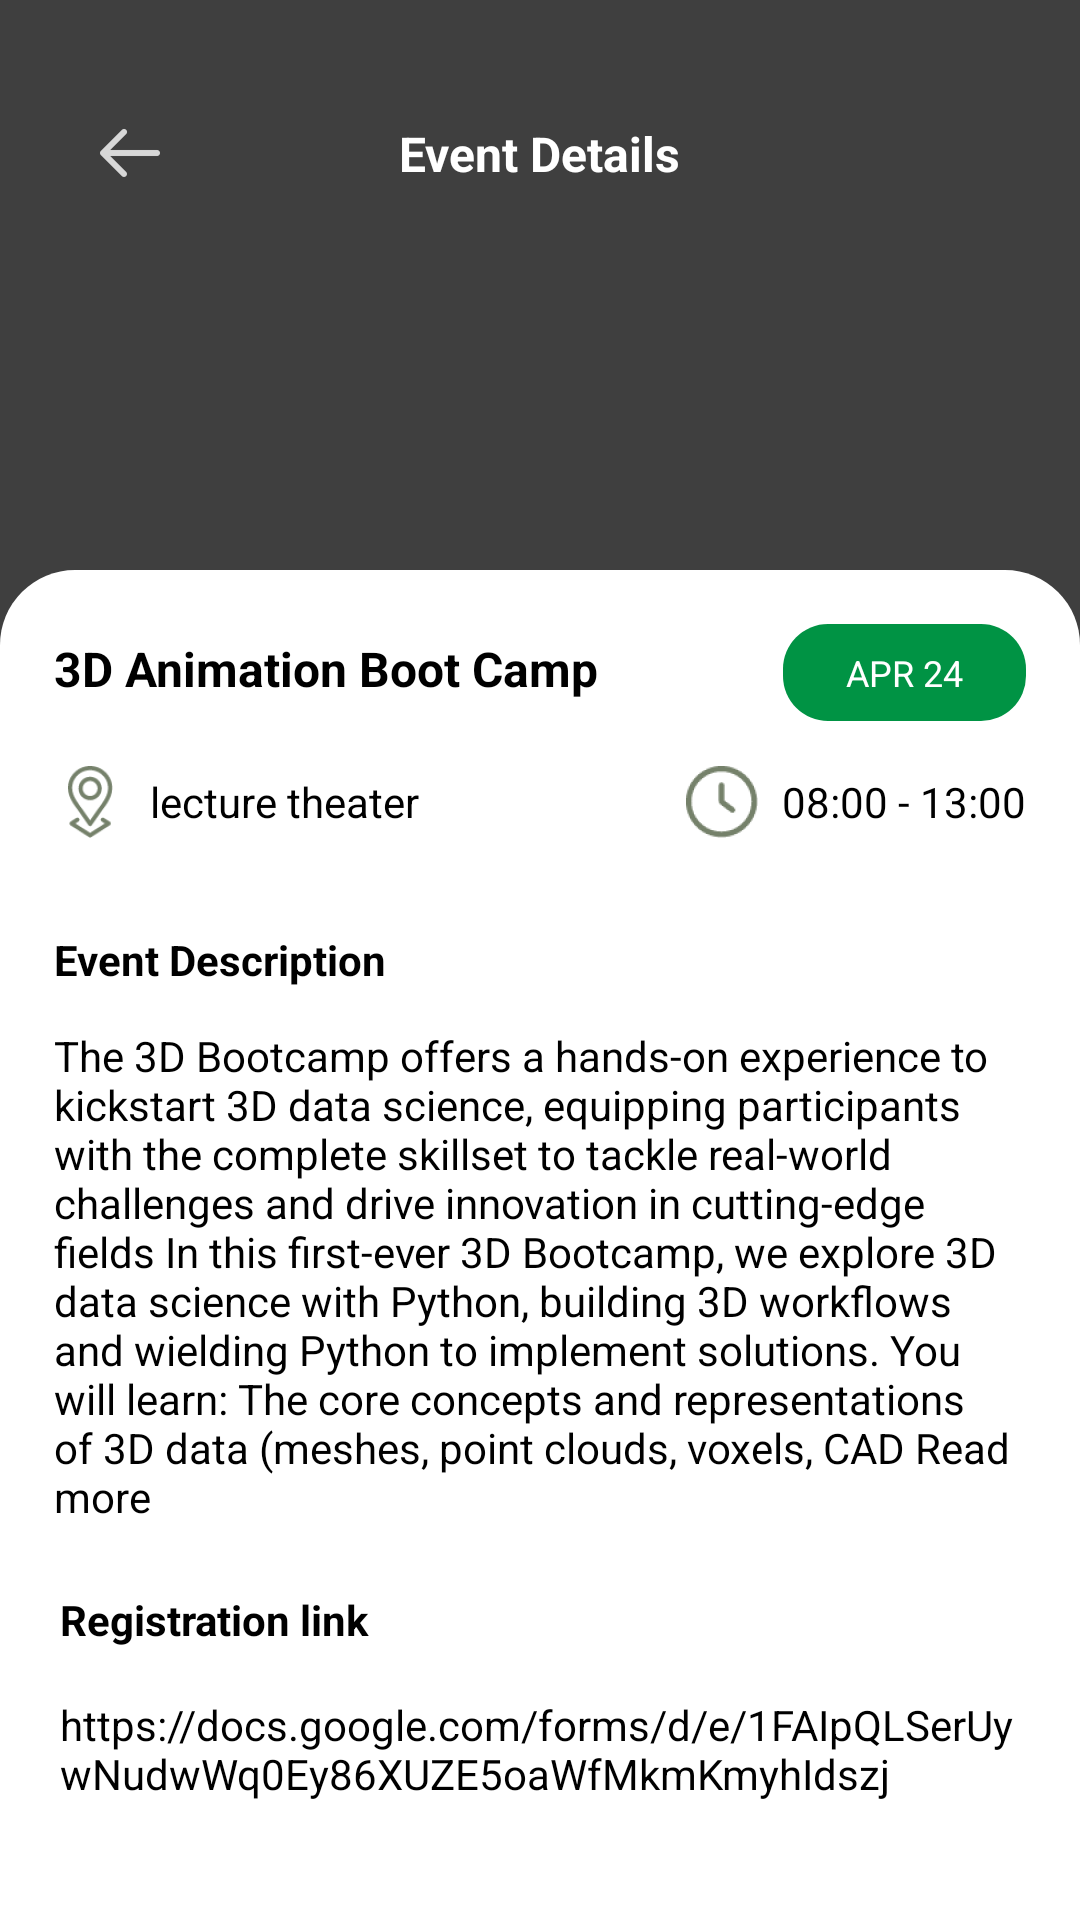

Where to tap for icons on this 1080px×1920px app screen, as (x,y):
back: (130,153)
location: (90,802)
time: (722,802)
